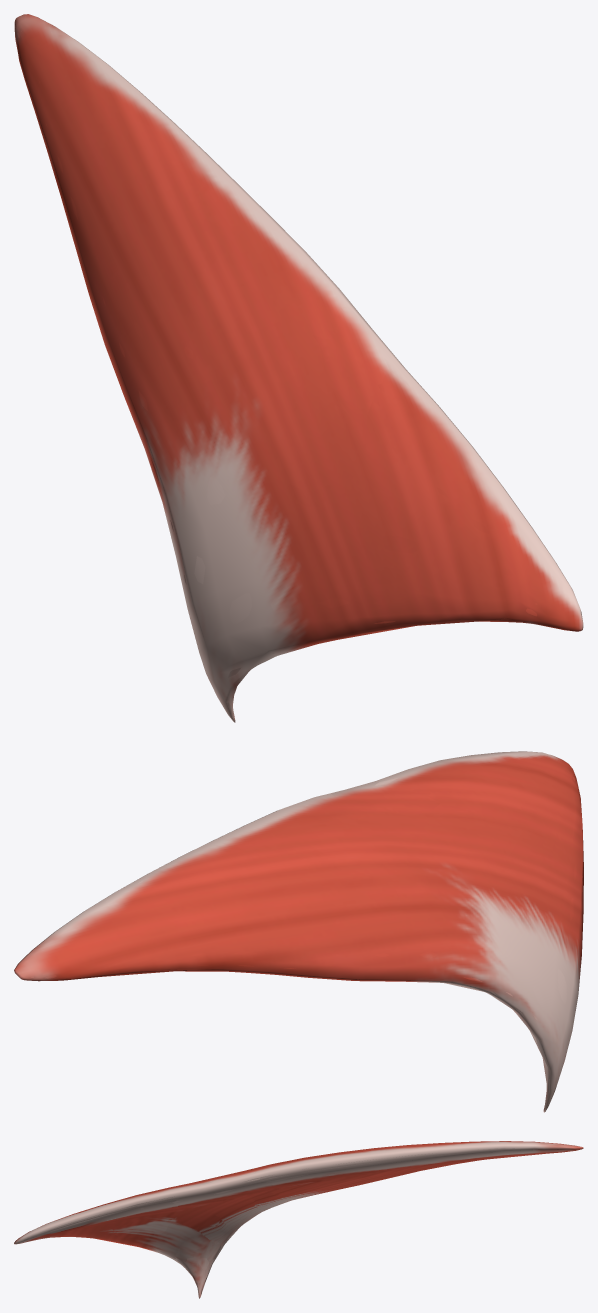
Rendered from R Trapezius.fbx.
3 renders of one model, top to bottom at view 1: azimuth 30°, elevation 25°; view 2: azimuth 150°, elevation 25°; view 3: azimuth 270°, elevation 25°, orthographic. The views are drawn at different scales.
Parts seen in each view (by area): view 1: R Trapezius, R Trapezius high, R Trapezius low; view 2: R Trapezius, R Trapezius high, R Trapezius low; view 3: R Trapezius, R Trapezius high, R Trapezius low.
Boxes of the visible parts, x1,y1,x2,y2 form: R Trapezius: (14, 14, 583, 722); R Trapezius high: (15, 16, 582, 720); R Trapezius low: (232, 307, 518, 684); R Trapezius: (14, 751, 583, 1112); R Trapezius high: (20, 752, 582, 1103); R Trapezius low: (101, 781, 549, 1106); R Trapezius: (14, 1141, 583, 1298); R Trapezius high: (17, 1143, 578, 1294); R Trapezius low: (41, 1149, 541, 1294).
Size of the model in its own units: 10.79 by 20.09 by 52.65.
1 material, 1 textured.
